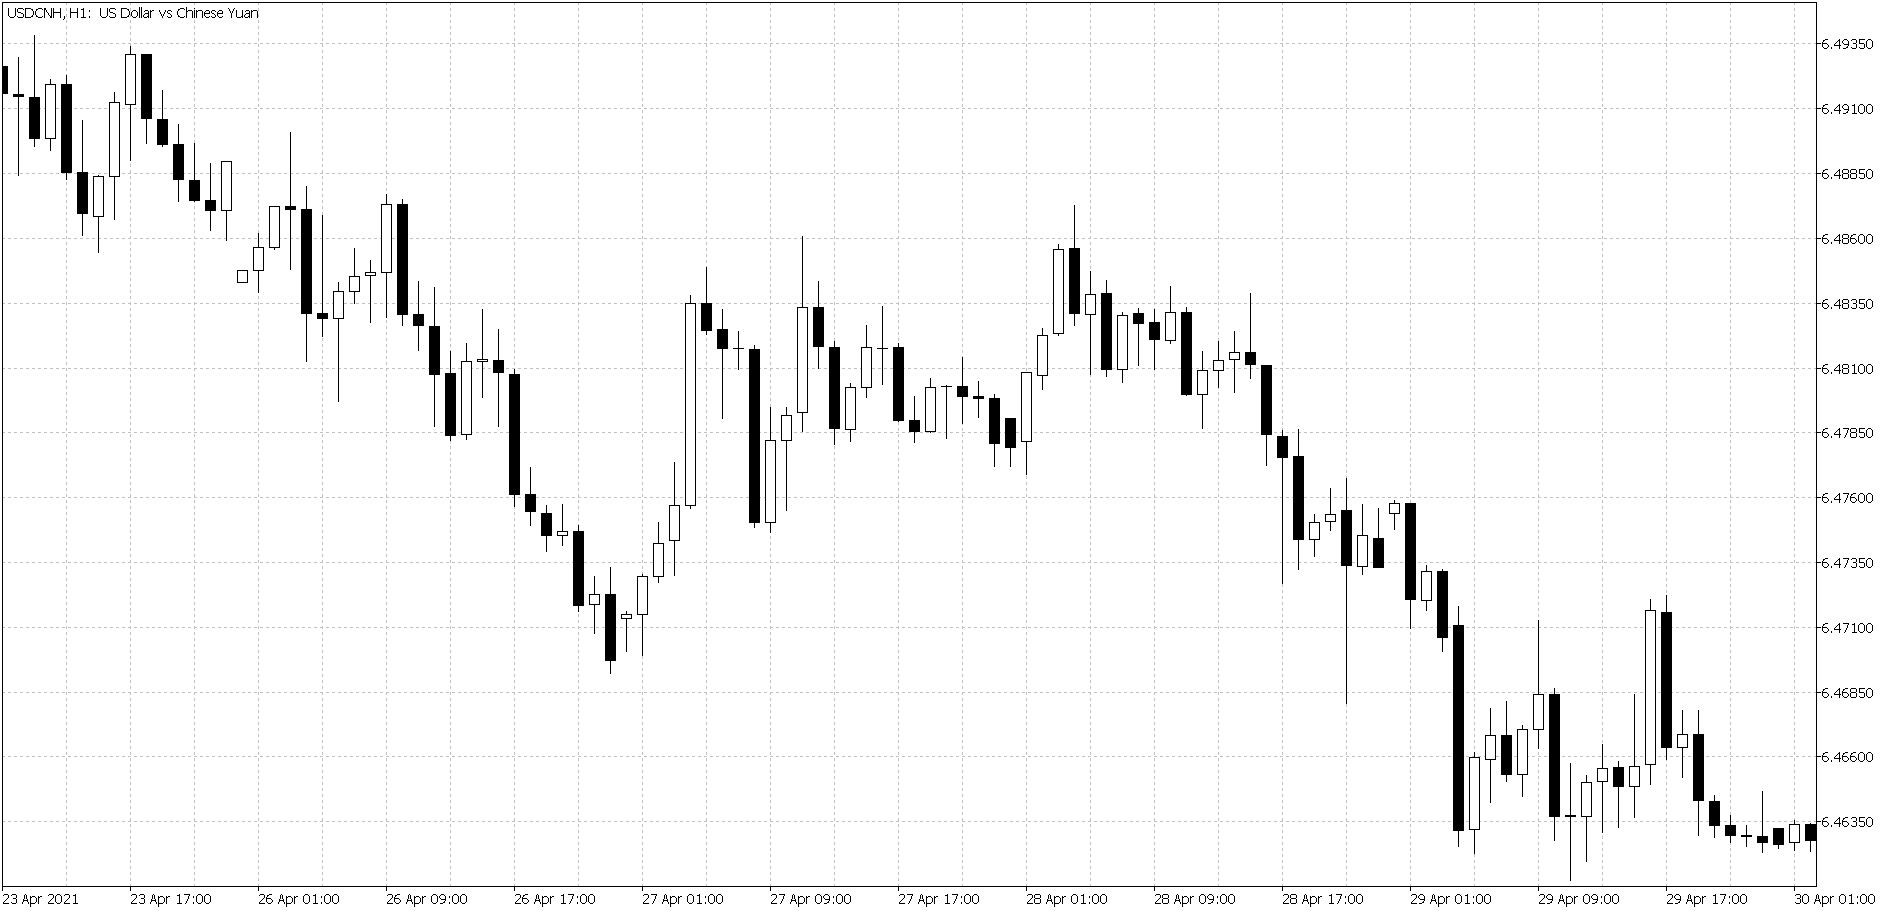3whitesoldiers: (634, 472, 681, 656)
bearishEngulfing: (379, 191, 411, 337)
eveningDojiStar: (862, 283, 907, 442)
eveningStar: (459, 297, 502, 456)
